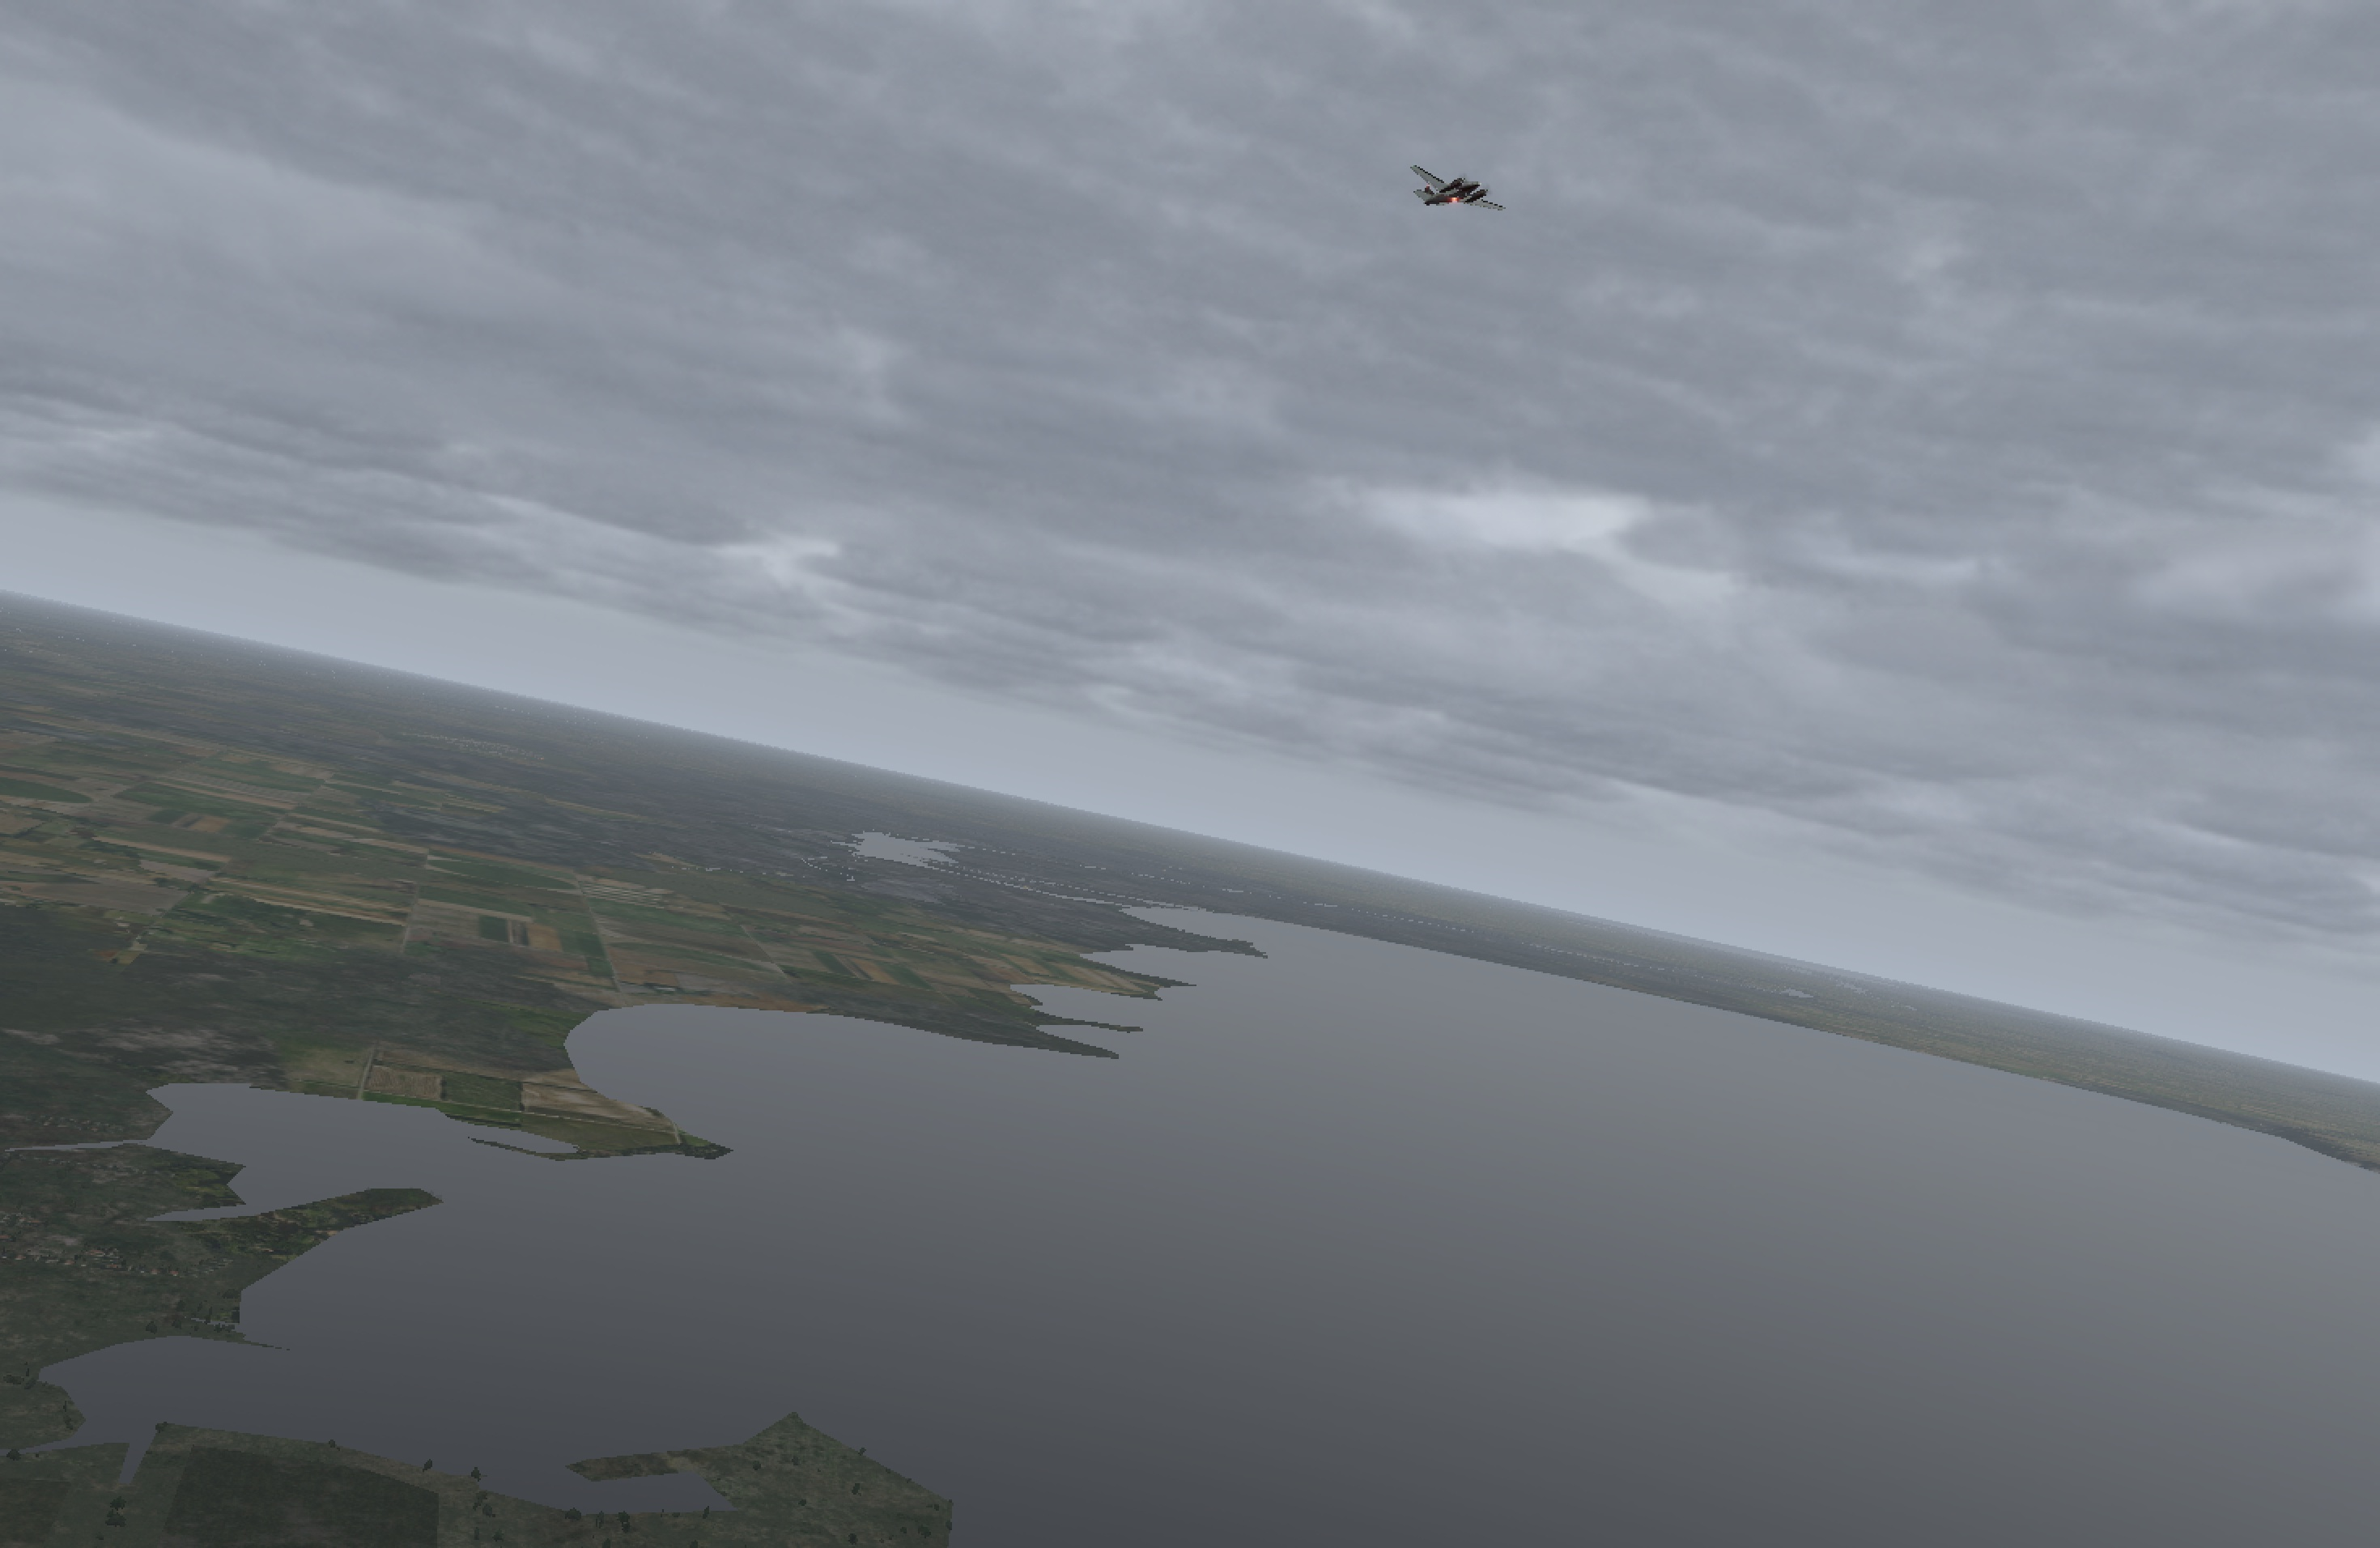aircraft: (1402, 172, 1521, 217)
